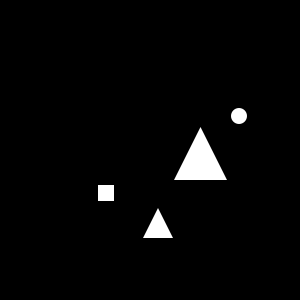circle: (98, 185, 114, 201)
rectangle: (231, 108, 247, 124)
triangle: (174, 127, 227, 180), (143, 208, 173, 238)
